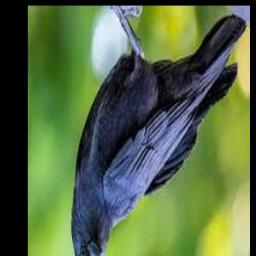Crow: (70, 8, 246, 256)
